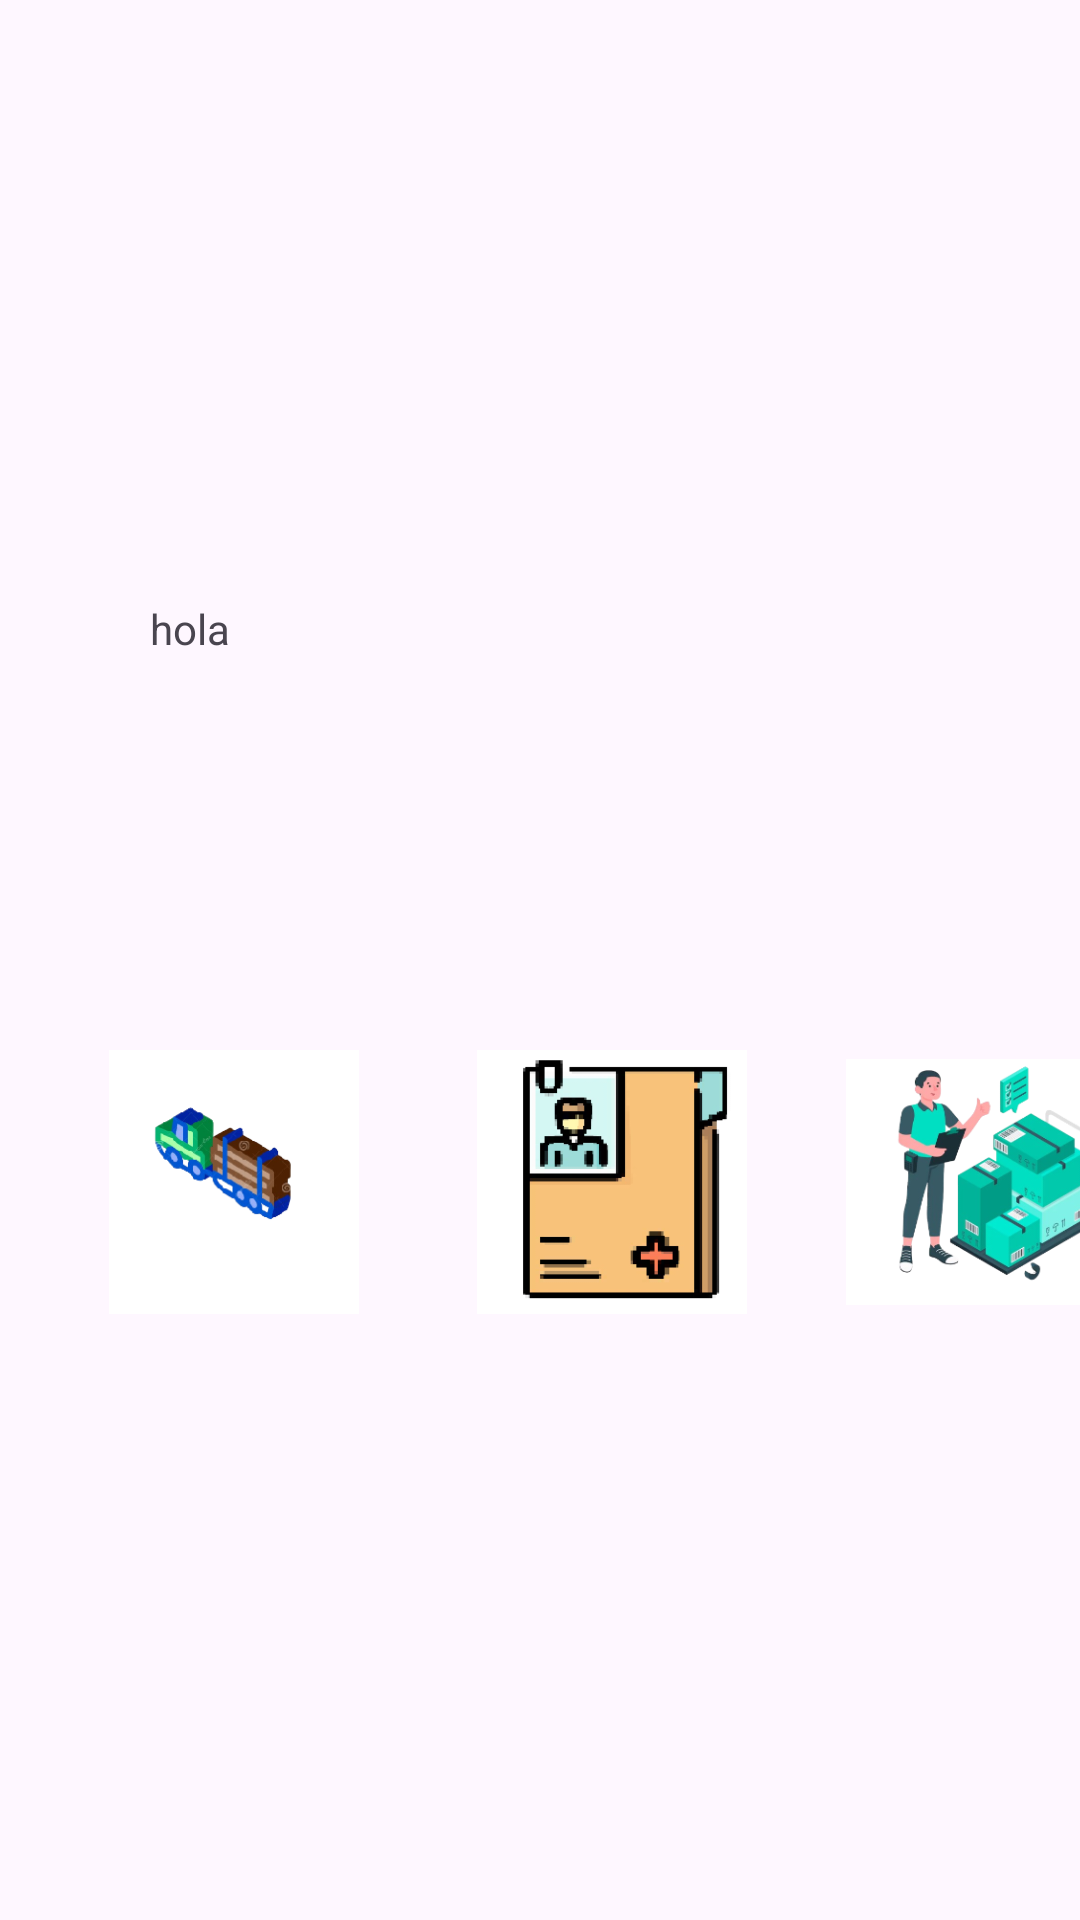

Screen size 1080px x 1920px. Icon name, then its center in pixels as [x,y]:
consultarhistorial: [625,1179]
